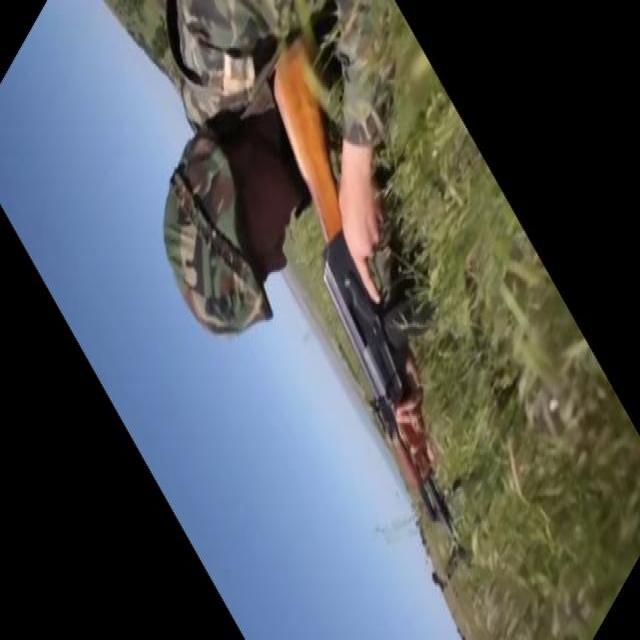weapon: (272, 36, 468, 596)
